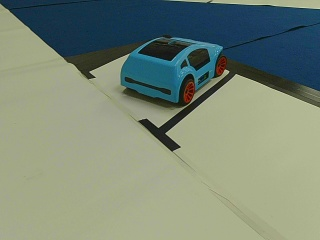car: (119, 36, 230, 106)
